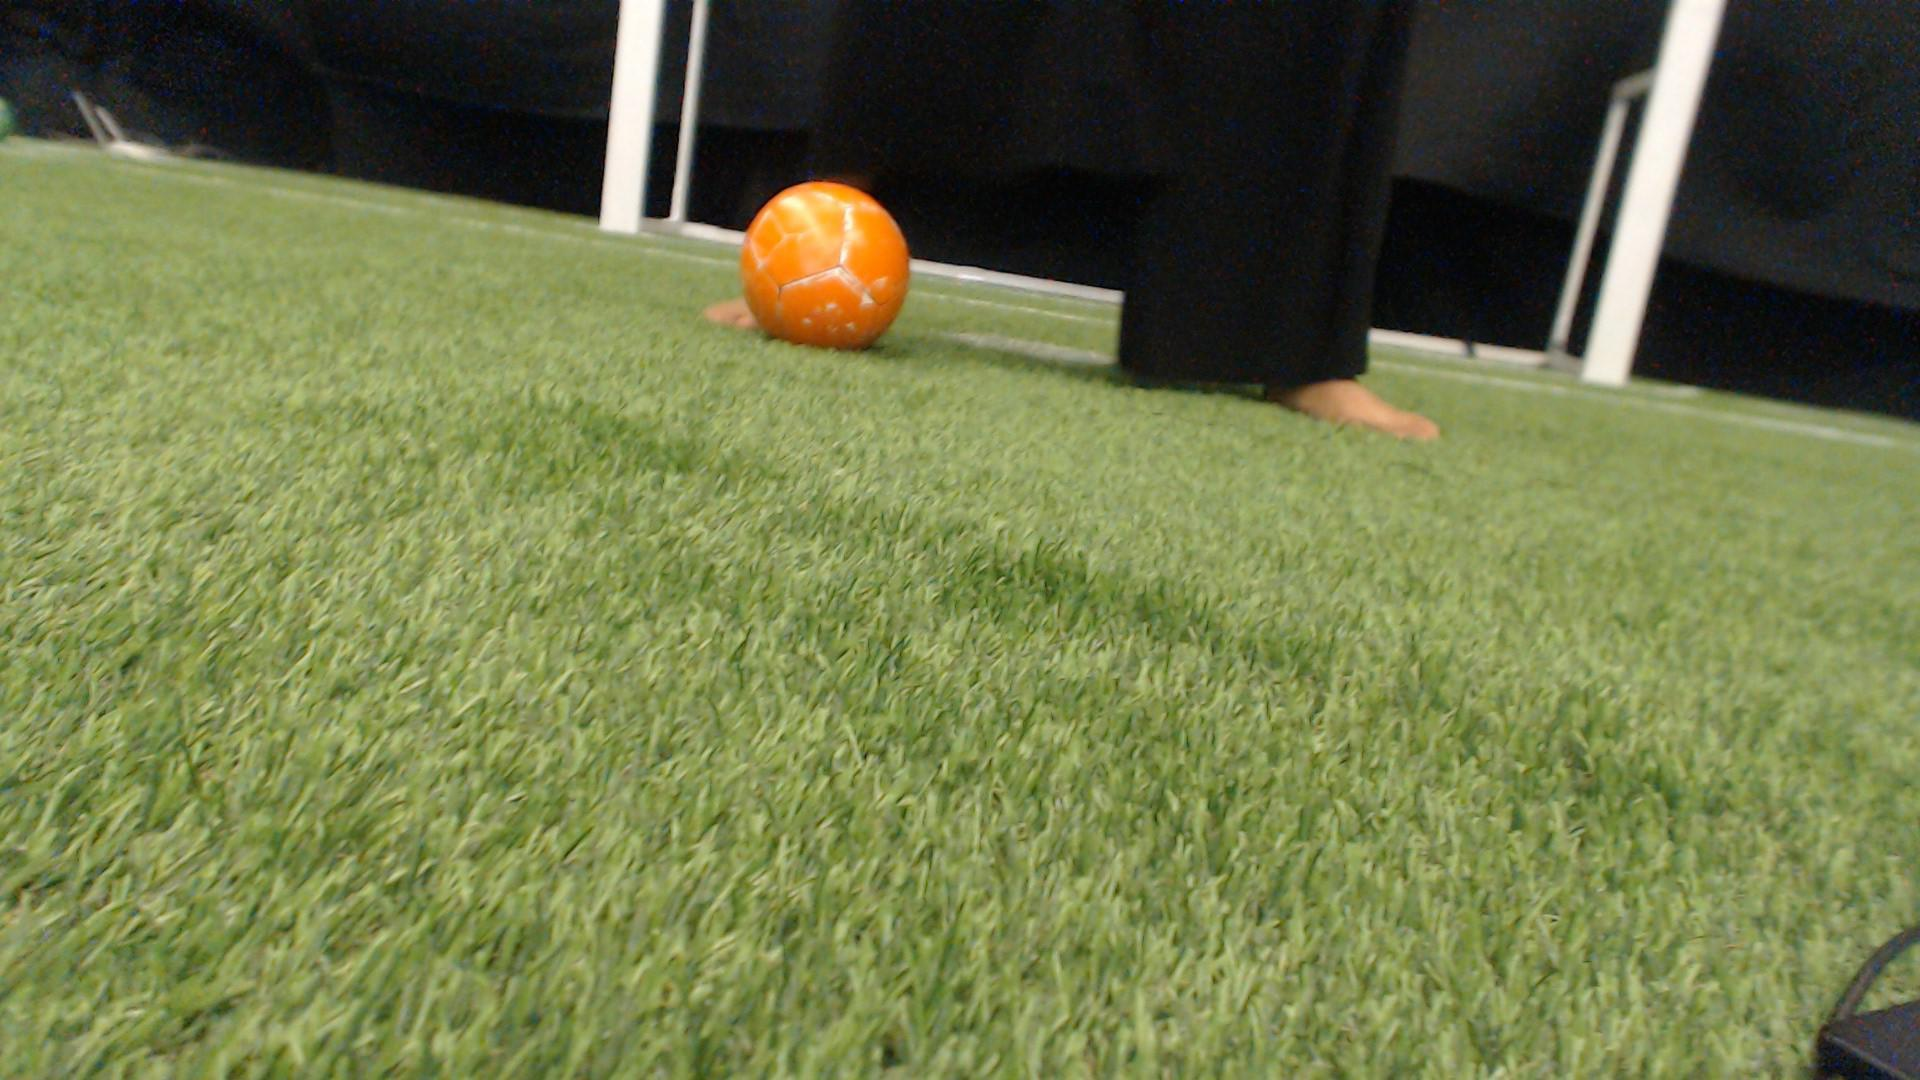bola: (728, 162, 927, 368)
